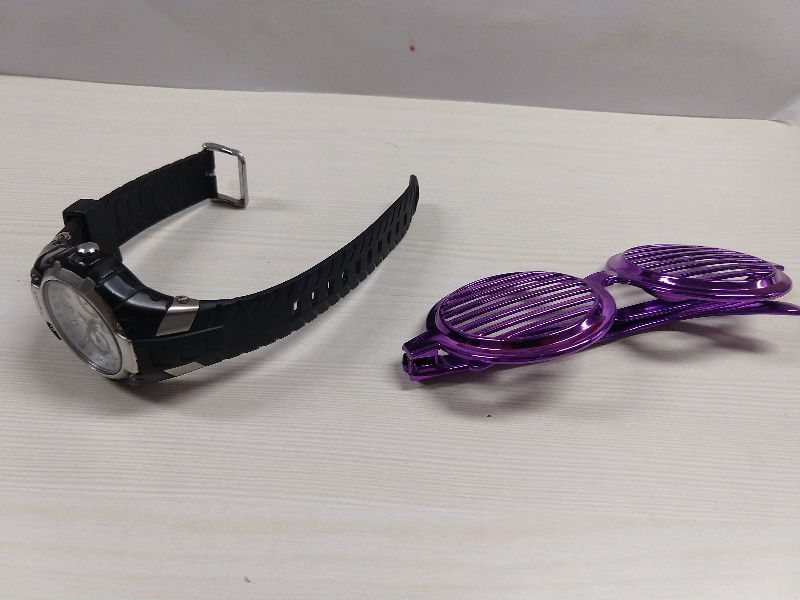shades: (400, 227, 800, 403)
watch: (23, 122, 382, 393)
